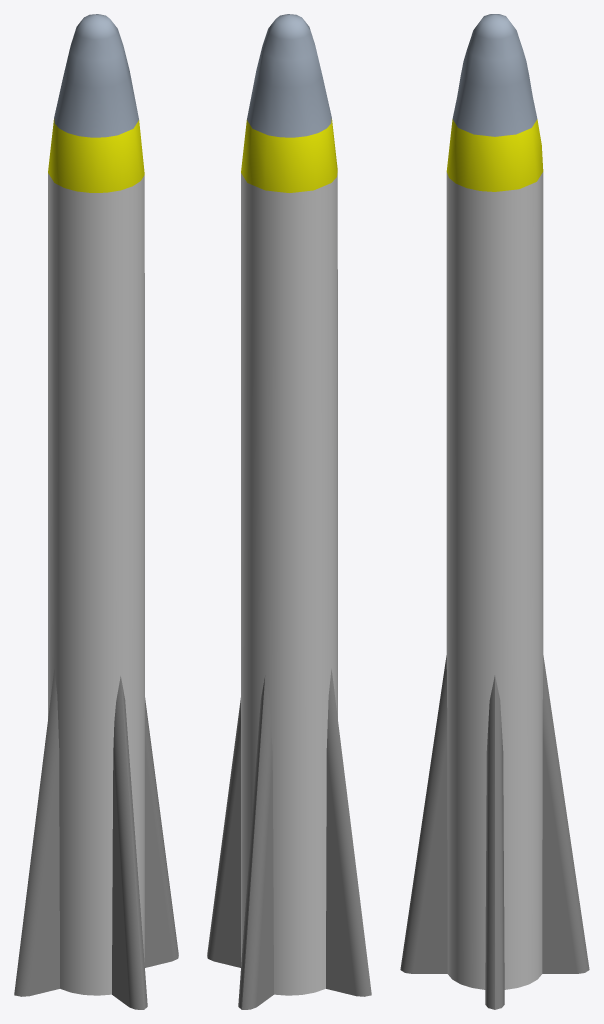
Rendered from icbm_middle.obj.
3 renders of one model, left to right at view 1: azimuth 30°, elevation 25°; view 2: azimuth 150°, elevation 25°; view 3: azimuth 270°, elevation 25°, orthographic.
Parts seen in each view (by area): view 1: 35, 71, 51, 34, 73, 72, 69, 54, 38, 65, 67, 52 (+9 smaller); view 2: 27, 11, 73, 26, 59, 65, 34, 61, 67, 69, 10, 63 (+19 smaller); view 3: 11, 51, 73, 50, 71, 55, 14, 58, 12, 59, 2, 57 (+14 smaller).
Part boxes in pixels (<box>): 35: <box>59,188,111,995</box>; 71: <box>54,186,132,866</box>; 51: <box>127,175,144,966</box>; 34: <box>14,669,59,996</box>; 73: <box>54,14,138,137</box>; 72: <box>64,120,144,192</box>; 69: <box>54,183,63,662</box>; 54: <box>145,699,178,960</box>; 38: <box>112,758,135,1009</box>; 65: <box>48,173,54,639</box>; 67: <box>48,190,54,702</box>; 52: <box>145,859,172,967</box>; 27: <box>265,190,325,995</box>; 11: <box>241,173,254,966</box>; 73: <box>247,14,331,137</box>; 26: <box>250,676,273,1006</box>; 59: <box>247,183,265,673</box>; 65: <box>313,183,331,658</box>; 34: <box>326,669,371,996</box>; 61: <box>247,185,265,760</box>; 67: <box>313,192,331,859</box>; 69: <box>331,177,336,659</box>; 10: <box>213,713,240,959</box>; 63: <box>265,212,272,750</box>; 11: <box>495,182,542,989</box>; 51: <box>447,178,485,989</box>; 73: <box>457,14,537,136</box>; 50: <box>405,655,447,973</box>; 71: <box>446,172,517,987</box>; 55: <box>480,191,499,697</box>; 14: <box>542,737,584,973</box>; 58: <box>474,134,536,191</box>; 12: <box>542,855,576,973</box>; 59: <box>537,172,543,642</box>; 2: <box>488,683,501,1009</box>; 57: <box>495,202,502,666</box>.
Size of the model in its own units: 2937 by 16350 by 2937.
